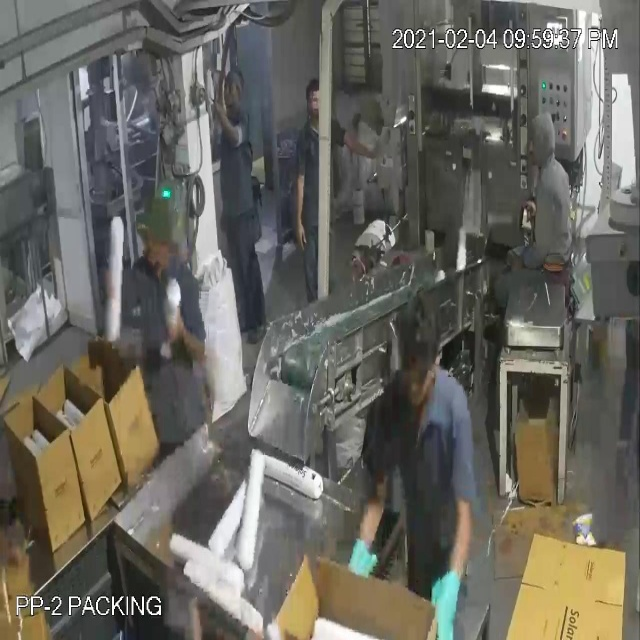Guantes: (414, 554, 475, 640)
Sin_guantes: (150, 290, 224, 383), (334, 109, 386, 175), (214, 82, 250, 157), (292, 158, 311, 260)
